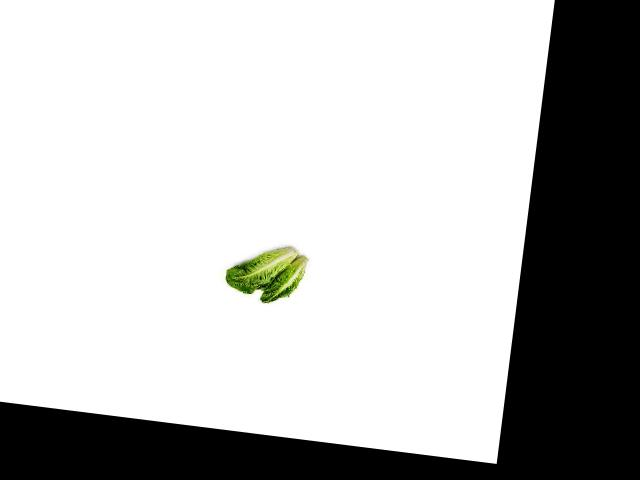lettuce: (223, 235, 293, 301)
